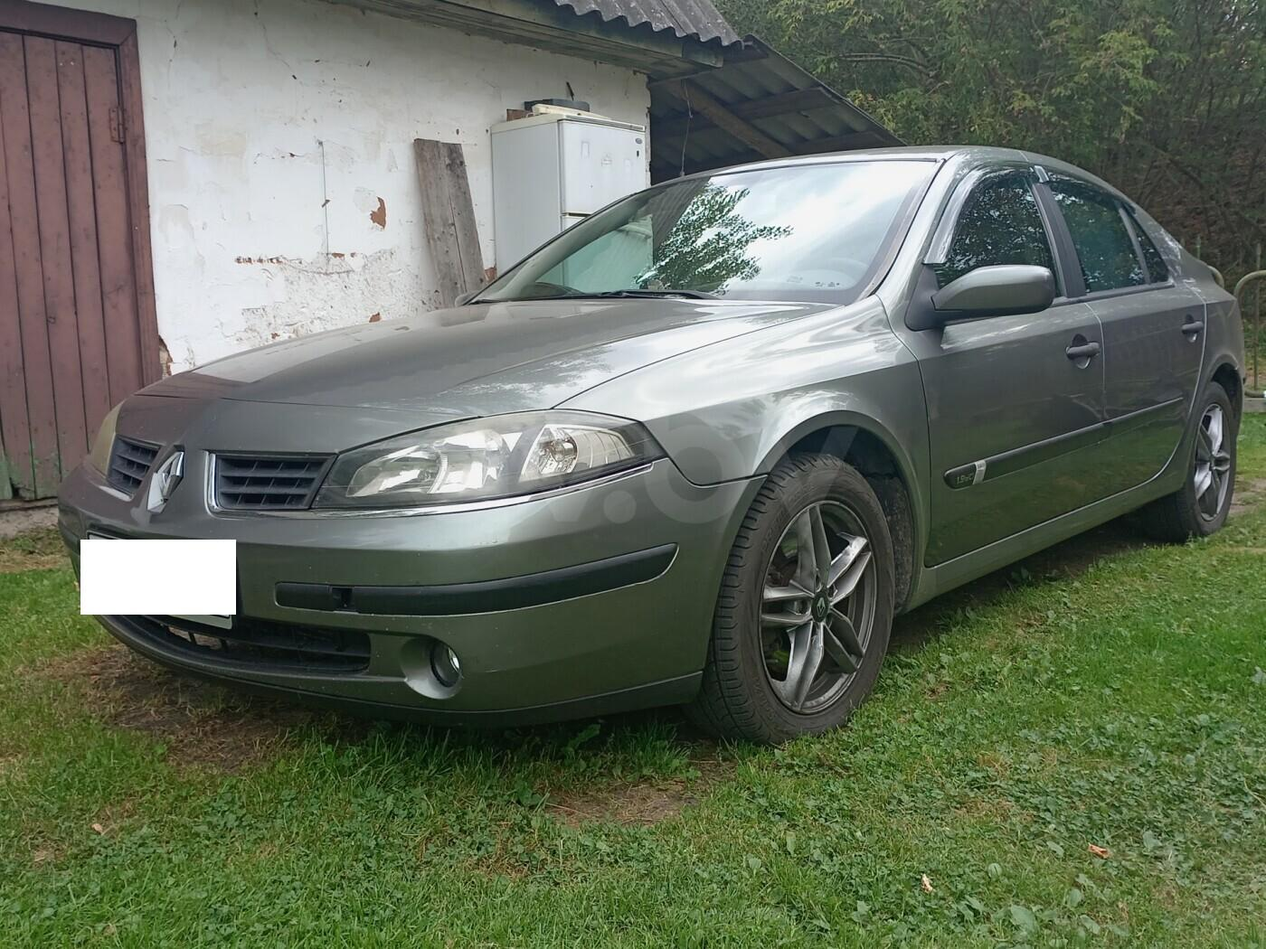Laguna_2005-2007: (54, 128, 1247, 759)
